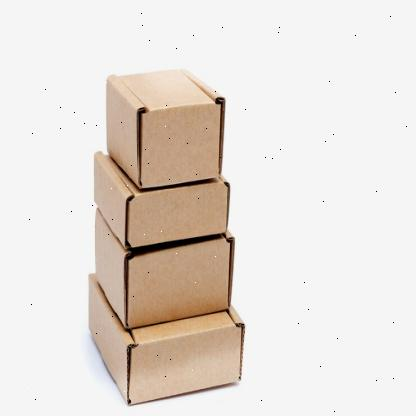box: (124, 237, 234, 332), (125, 320, 245, 406), (138, 95, 226, 189), (123, 181, 230, 250)
